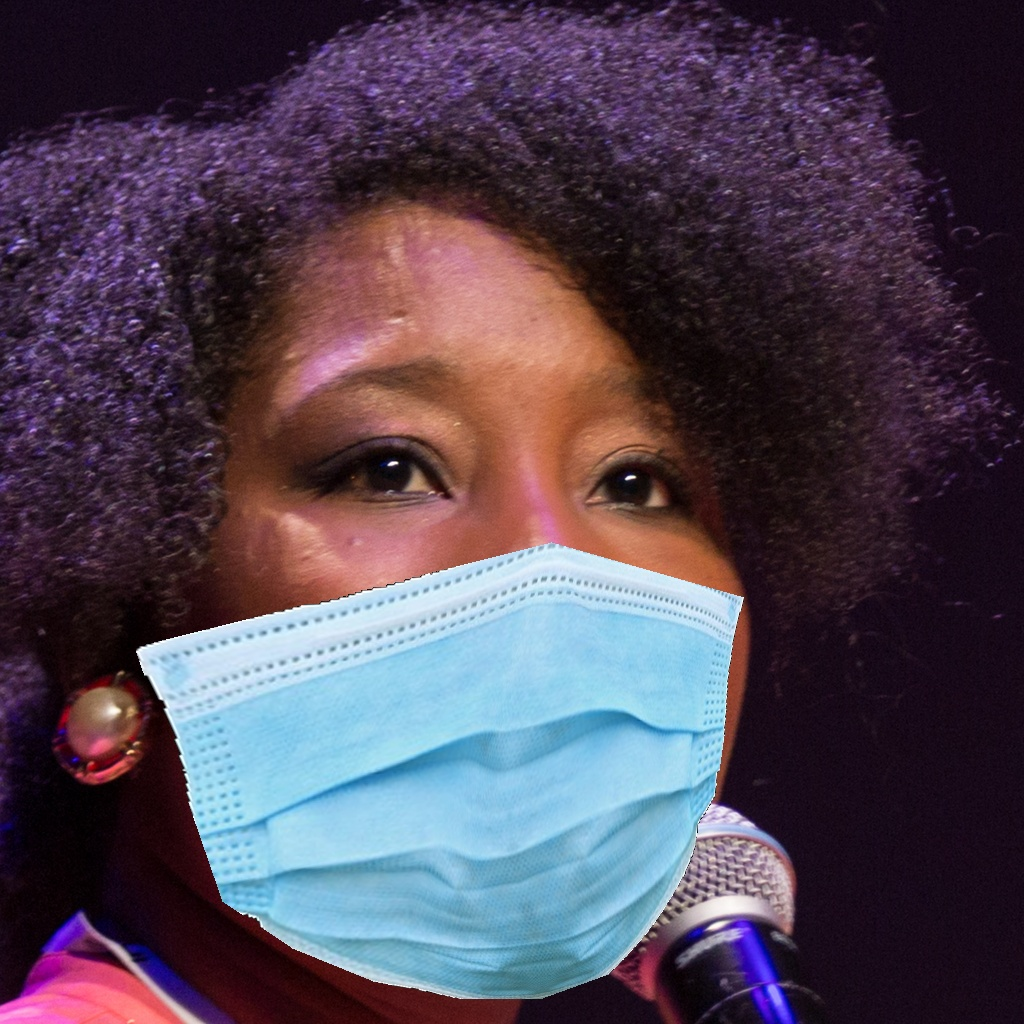with_mask: (210, 360, 735, 984)
